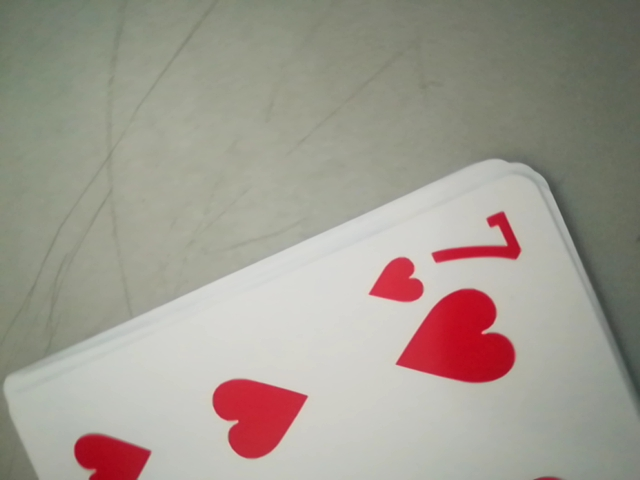hx 7: (367, 200, 536, 307)
